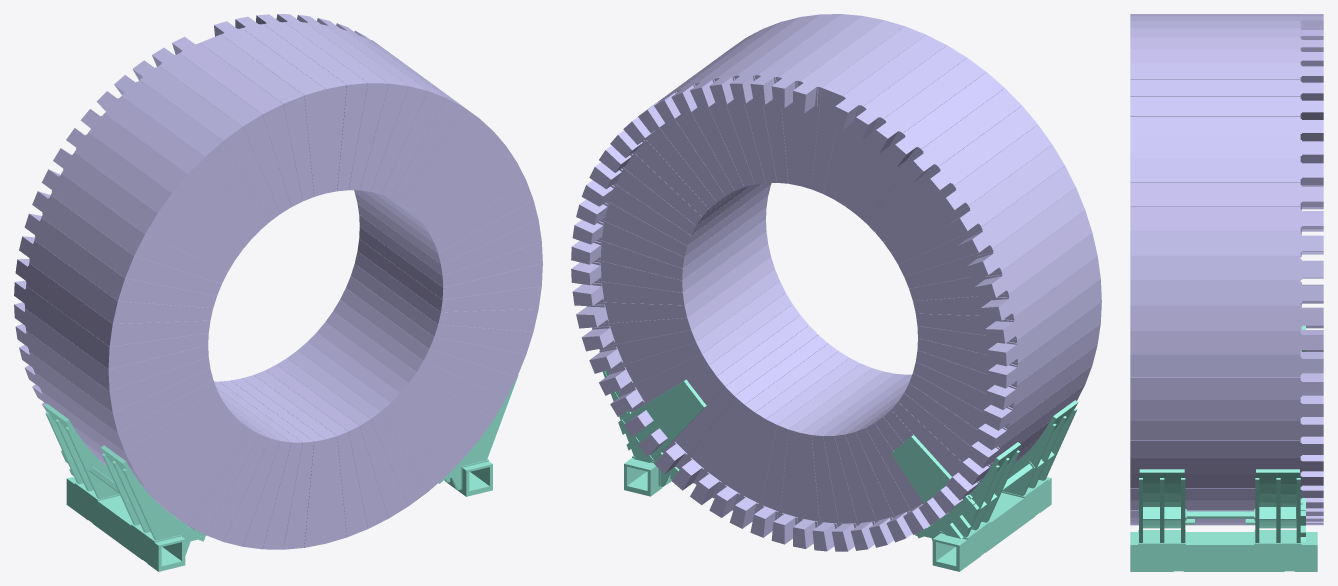
Rendered from Tile-Barrel-cut1.glb.
3 renders of one model, left to right at view 1: azimuth 30°, elevation 25°; view 2: azimuth 150°, elevation 25°; view 3: azimuth 270°, elevation 25°, orthographic. The views are drawn at different scales.
Parts seen in each view (by area): view 1: null; view 2: null; view 3: null.
Boxes of the visible parts, <box> form: null: <box>14,14,542,571</box>; null: <box>571,14,1101,571</box>; null: <box>1130,14,1323,571</box>.
Bounding box in the file's own units: 8.47 × 8.47 × 3.2.
